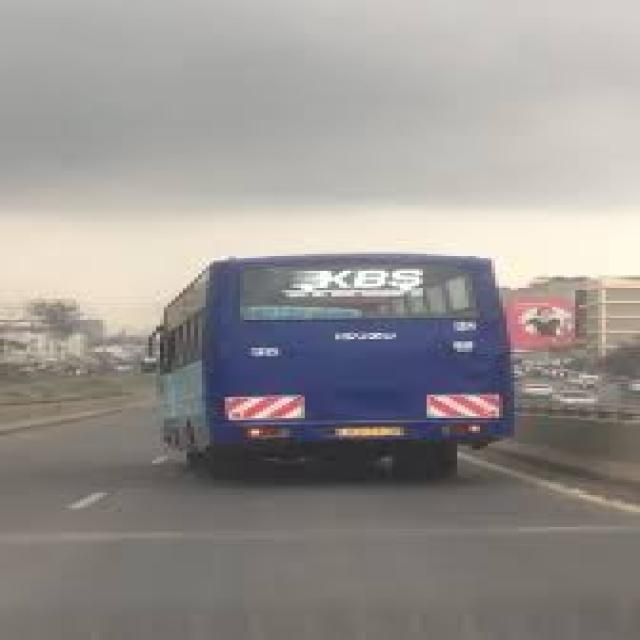bus: (106, 208, 568, 518)
